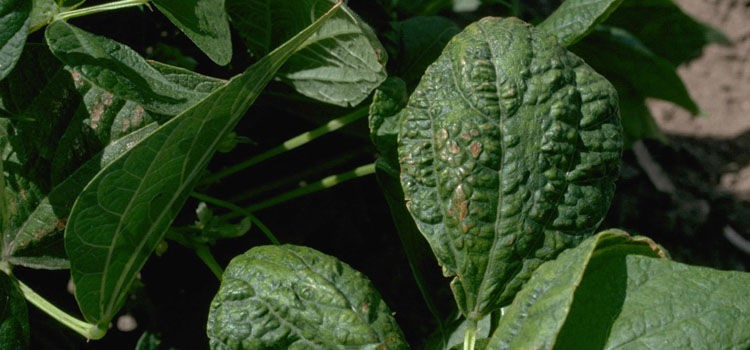StringBeans_Mosaic: (410, 23, 611, 289)
